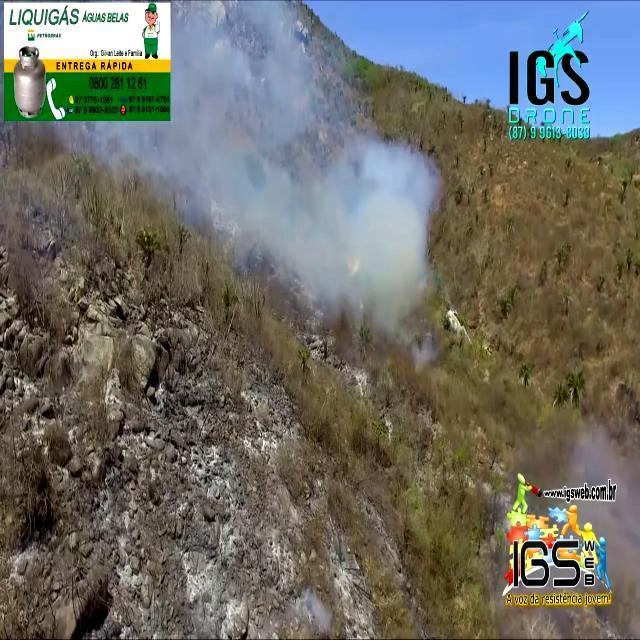Smoke: (176, 0, 430, 323)
